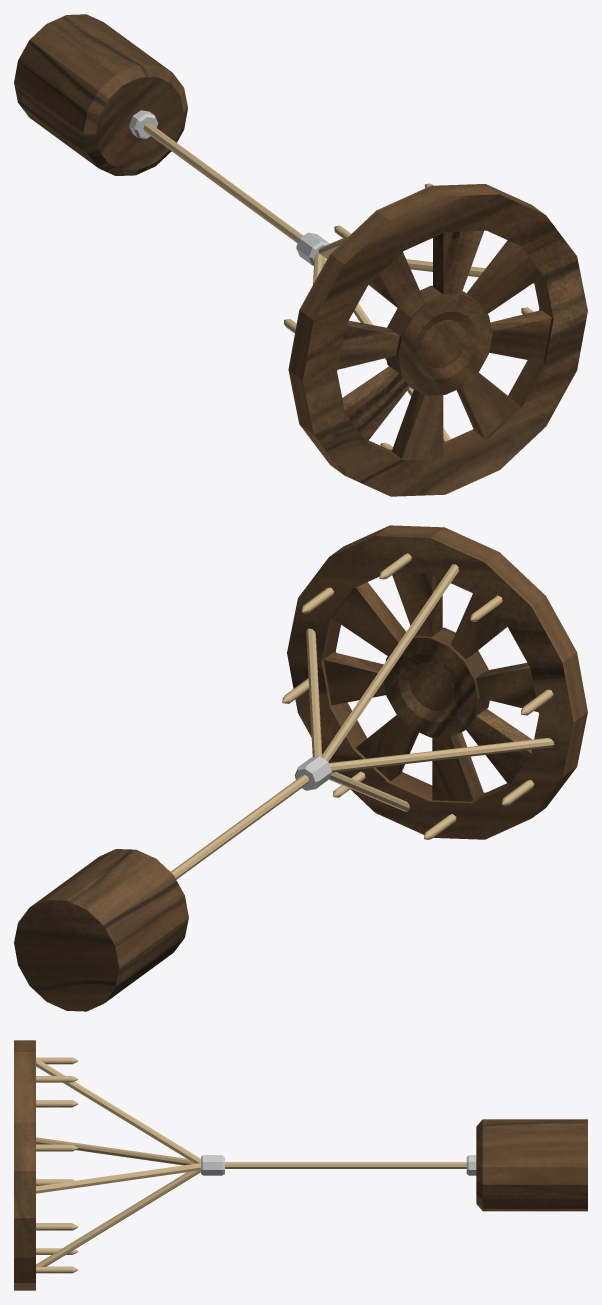
The model's file is Avize.fbx.
3 renders of one model, top to bottom at view 1: azimuth 30°, elevation 25°; view 2: azimuth 150°, elevation 25°; view 3: azimuth 270°, elevation 25°, orthographic. The views are drawn at different scales.
Parts seen in each view (by area): view 1: avize, Cylinder.002, Cylinder.001; view 2: avize, Cylinder.002, mum.003, Cylinder.001; view 3: avize, Cylinder.002, mum.003, Cylinder.001.
Part boxes in pixels (left/top/right/bottom): avize: left=14, top=14, right=587, bottom=496; Cylinder.002: left=143, top=123, right=534, bottom=442; Cylinder.001: left=129, top=110, right=329, bottom=265; avize: left=14, top=525, right=587, bottom=1011; Cylinder.002: left=171, top=564, right=554, bottom=879; mum.003: left=282, top=553, right=553, bottom=839; Cylinder.001: left=294, top=756, right=331, bottom=790; avize: left=14, top=1040, right=587, bottom=1290; Cylinder.002: left=36, top=1058, right=466, bottom=1266; mum.003: left=36, top=1057, right=77, bottom=1273; Cylinder.001: left=201, top=1155, right=476, bottom=1175.
Size of the model in its own units: 200 by 200 by 459.
